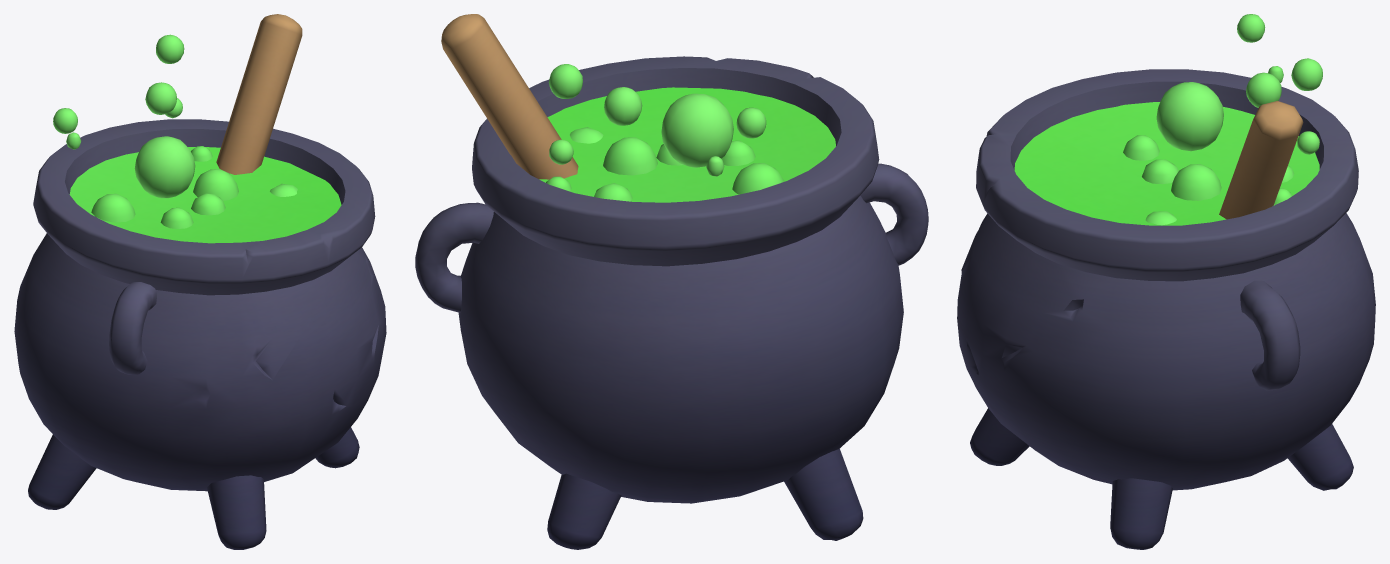
Rendered from WBA_Witch_Cauldron_Large_01.fbx.
The picture shows the model from 3 angles, left to right: view 1: azimuth 30°, elevation 25°; view 2: azimuth 150°, elevation 25°; view 3: azimuth 270°, elevation 25°; orthographic projection. The views are drawn at different scales.
Visible parts, largest first — view 1: WBA_Witch_Cauldron_Large_01; view 2: WBA_Witch_Cauldron_Large_01; view 3: WBA_Witch_Cauldron_Large_01.
Boxes of the visible parts, bbox=[...] form: WBA_Witch_Cauldron_Large_01: bbox=[14, 14, 386, 549]; WBA_Witch_Cauldron_Large_01: bbox=[415, 14, 928, 549]; WBA_Witch_Cauldron_Large_01: bbox=[957, 14, 1375, 549].
Size of the model in its own units: 46.74 by 53.79 by 45.72.
